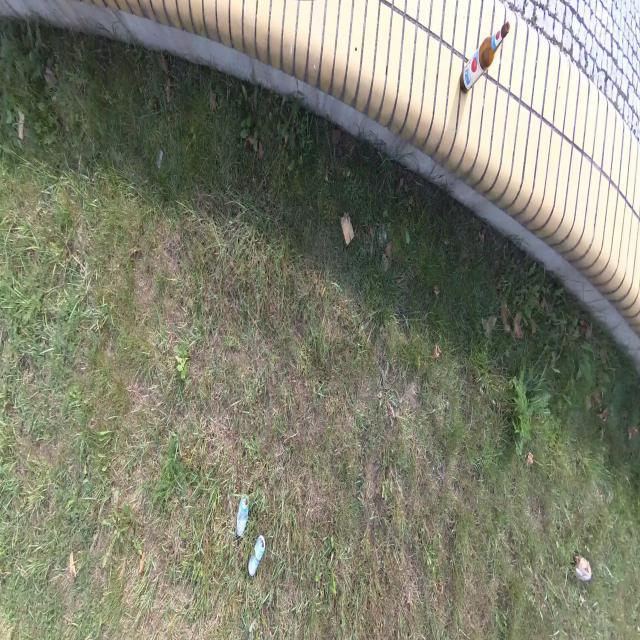rubbish: (458, 22, 510, 96), (247, 532, 265, 575), (571, 552, 591, 583), (236, 493, 250, 536)
